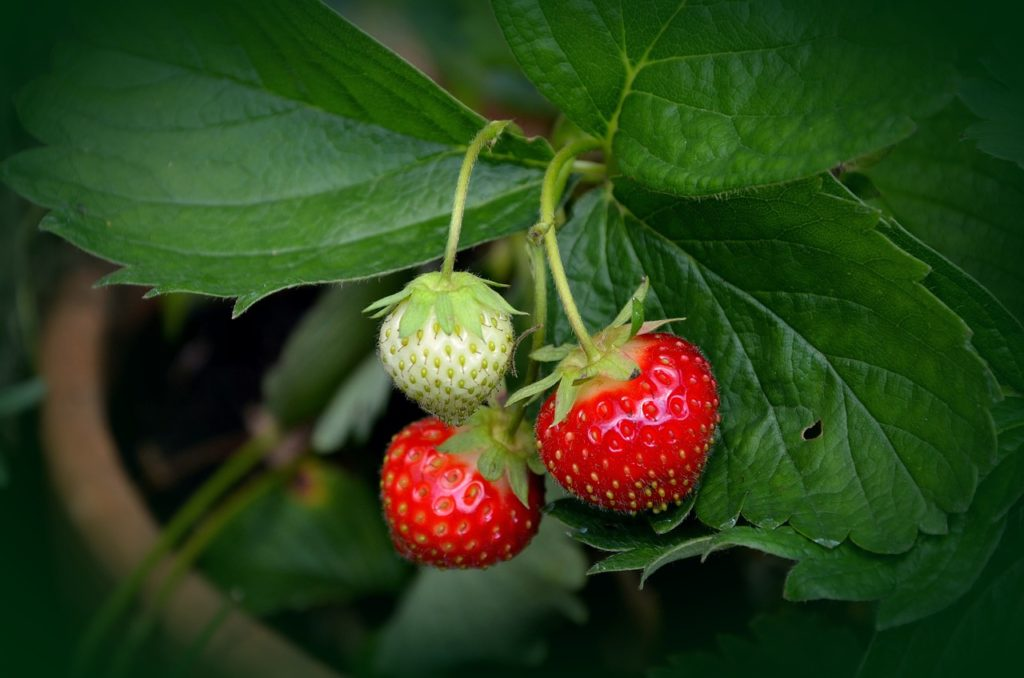ripe: (538, 332, 721, 510), (369, 420, 548, 567)
unripe: (379, 277, 511, 427)
